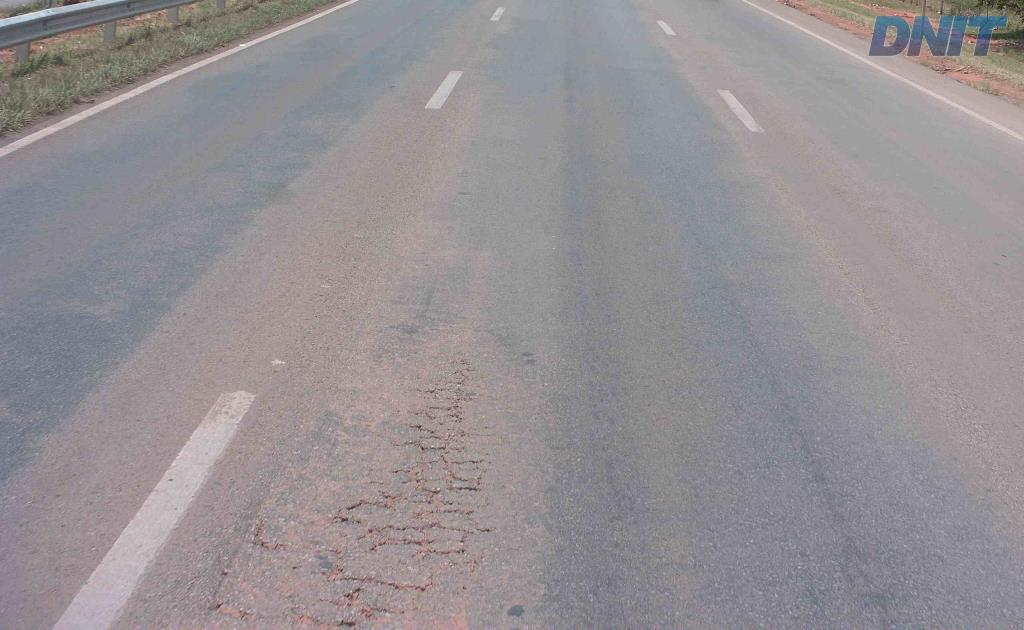crack: (326, 422, 483, 527), (353, 508, 476, 575), (309, 540, 434, 587), (416, 358, 475, 393), (407, 395, 478, 423), (251, 521, 281, 554)
